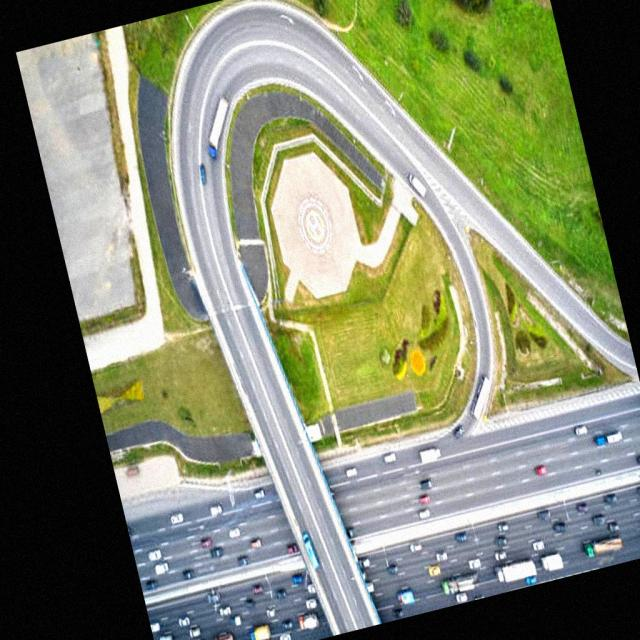helipad: (299, 202, 329, 250)
